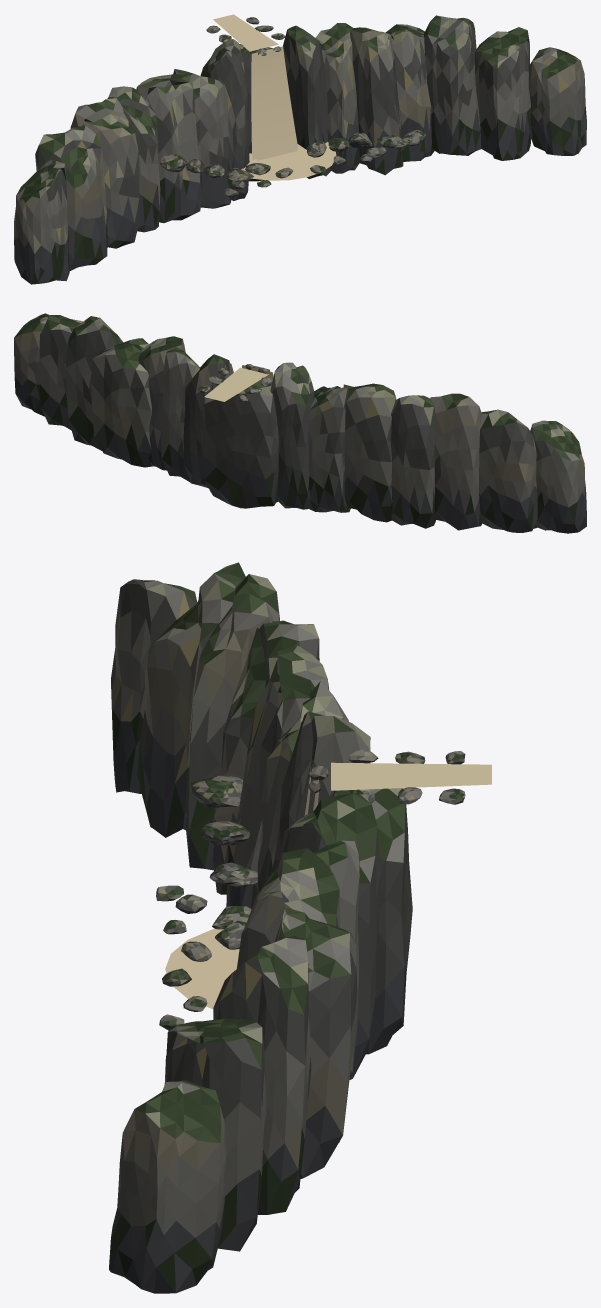
File: waterfall.glb
3 views of the same model, one above another, from view 1: azimuth 30°, elevation 25°; view 2: azimuth 150°, elevation 25°; view 3: azimuth 270°, elevation 25° (orthographic). The views are drawn at different scales.
Visible parts, largest first — view 1: waterfall-cliff, waterfall-rocks, waterfall-water-front, waterfall-foam, waterfall-water, waterfall-water-top; view 2: waterfall-cliff, waterfall-water-top, waterfall-rocks; view 3: waterfall-cliff, waterfall-rocks, waterfall-water-top, waterfall-foam.
Boxes of the visible parts, x1,y1,x2,y2 form: waterfall-cliff: (14, 15, 586, 284); waterfall-rocks: (160, 17, 425, 197); waterfall-water-front: (257, 49, 297, 160); waterfall-foam: (241, 142, 336, 180); waterfall-water: (251, 46, 298, 159); waterfall-water-top: (213, 14, 278, 51); waterfall-cliff: (14, 313, 586, 533); waterfall-water-top: (204, 367, 268, 401); waterfall-rocks: (198, 364, 272, 401); waterfall-cliff: (109, 562, 412, 1293); waterfall-rocks: (156, 749, 465, 1030); waterfall-water-top: (331, 762, 491, 790); waterfall-foam: (165, 928, 239, 1009).
Size of the model in its own units: 54.12 by 13.5 by 16.17.
